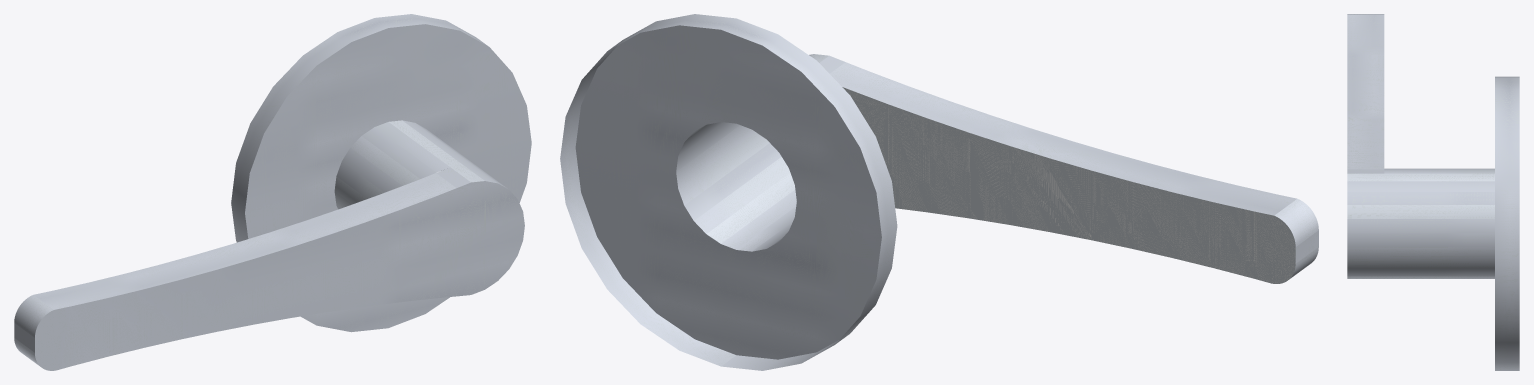
3 renders of one model, left to right at view 1: azimuth 30°, elevation 25°; view 2: azimuth 150°, elevation 25°; view 3: azimuth 270°, elevation 25°, orthographic. The views are drawn at different scales.
Parts seen in each view (by area): view 1: SketchUp.013, SketchUp.012; view 2: SketchUp.012, SketchUp.014, SketchUp.013; view 3: SketchUp.013, SketchUp.012.
Part boxes in pixels (bbox=[...]): SketchUp.013: bbox=[14, 120, 524, 370]; SketchUp.012: bbox=[231, 14, 531, 332]; SketchUp.012: bbox=[560, 14, 897, 370]; SketchUp.014: bbox=[842, 87, 1295, 283]; SketchUp.013: bbox=[676, 54, 1318, 278]; SketchUp.013: bbox=[1347, 14, 1494, 278]; SketchUp.012: bbox=[1495, 76, 1519, 370].
Size of the model in its own units: 0.154 by 0.0445 by 0.0762.
Materials: 3 (1 with a texture image).
